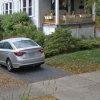Car: (0, 32, 46, 73)
